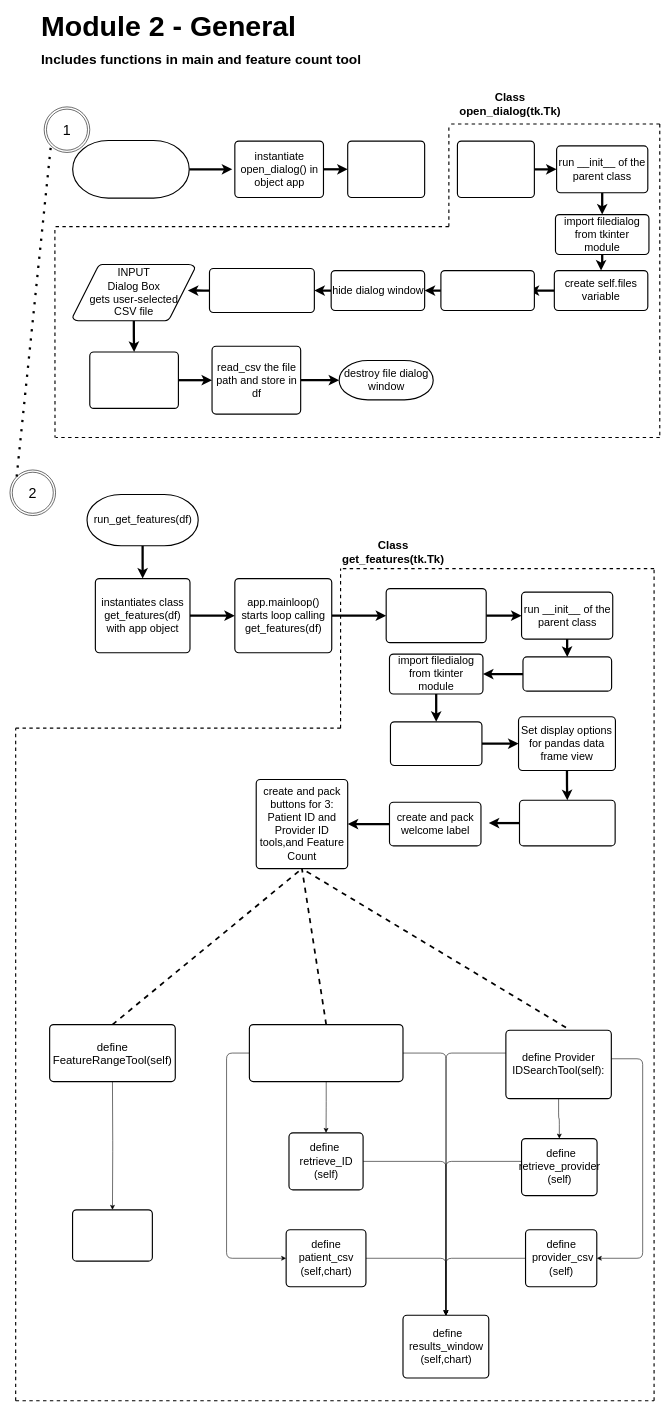
The diagram is 671 pixels wide and 1411 high, and some of its shapes have lost their labels. The shapes that lost their labels are listed below. From the top down, each one's centre as x and y in pixels, then its label:
At point (131, 169): "call run_open_dialog()".
At point (386, 169): "call to app.mainloop()".
At point (496, 169): "define class constructor".
At point (262, 290): "filedialog widget asks user for path, store in path variable".
At point (487, 290): "create self.title variable".
At point (134, 380): "Set df as global variable".
At point (435, 615): "create class constructor passing self and df".
At point (567, 673): "set self.df = df".
At point (436, 743): "set self.geometry and self.title for main page".
At point (567, 822): "create and pack frame widget for main page".
At point (326, 1053): "define PatientIDSearchTool(self):".
At point (112, 1235): "define comboclick(self)".
